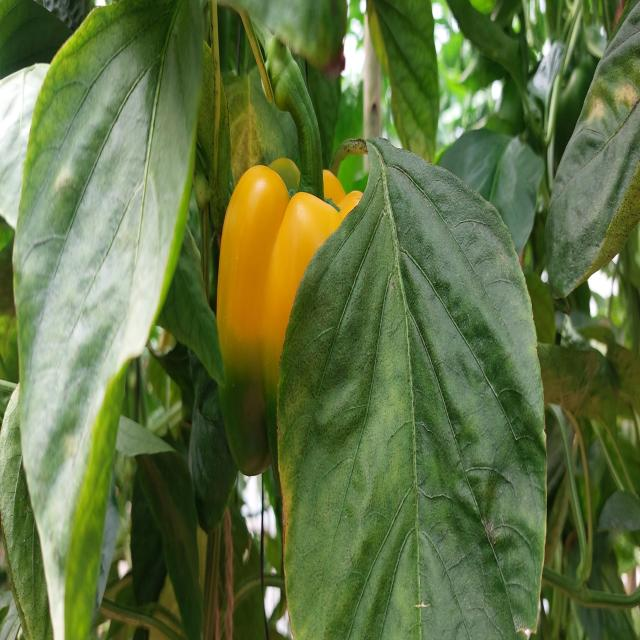Yellow-Ready-to-Harvest: (215, 143, 368, 387)
